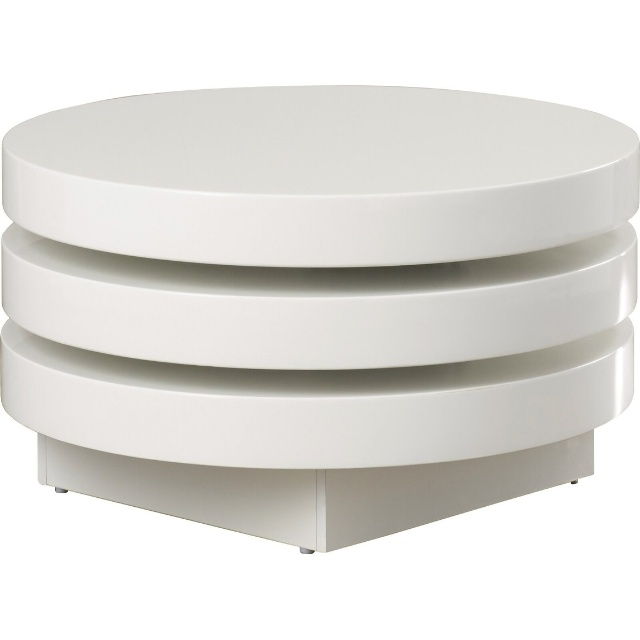obstacle: (0, 87, 638, 551)
